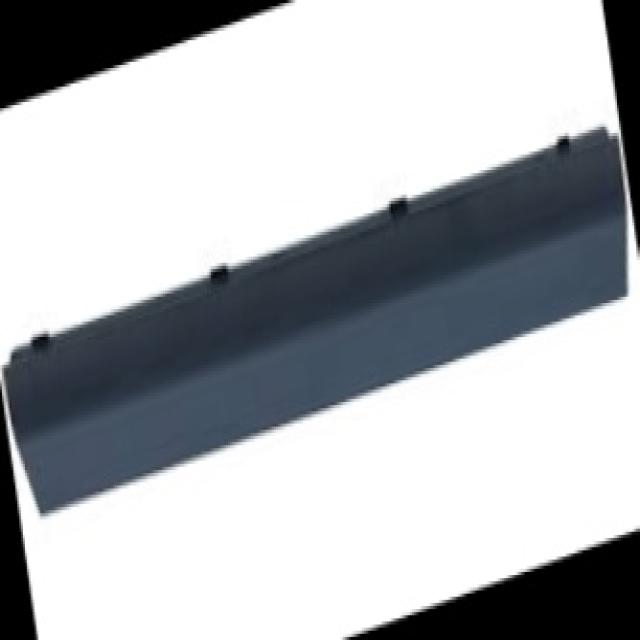elektronik: (324, 128, 617, 268), (0, 330, 62, 432)
